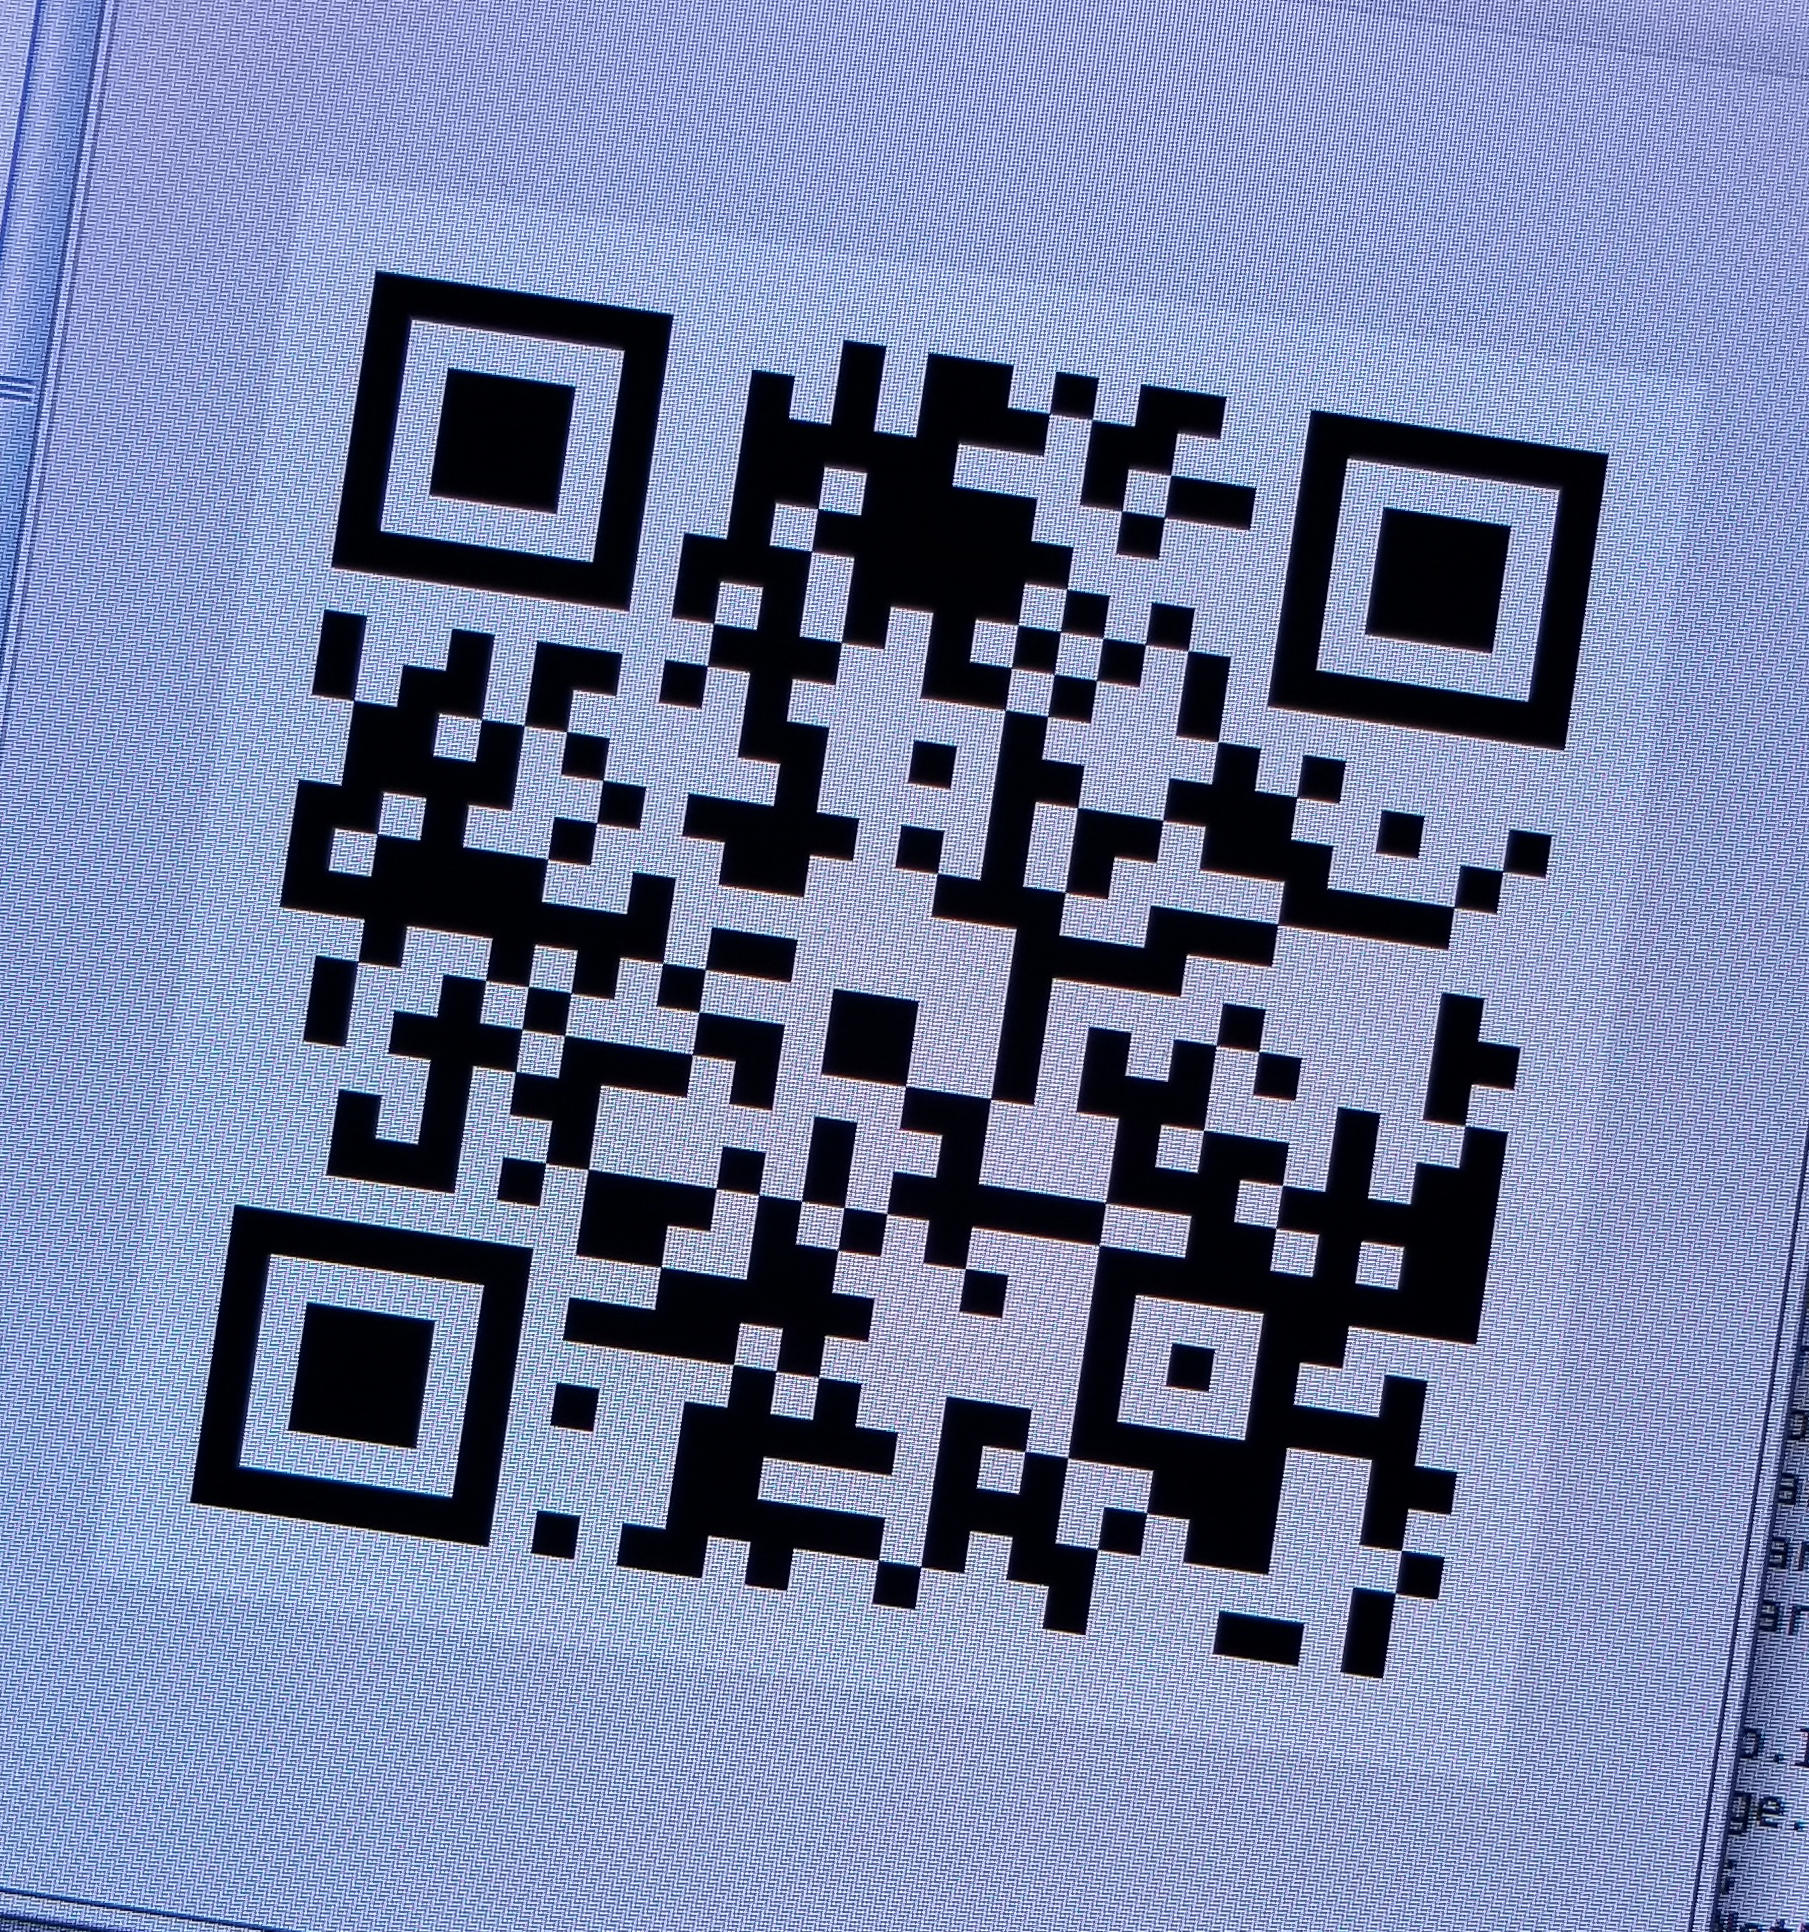QR_CODE: (150, 219, 1646, 1735)
